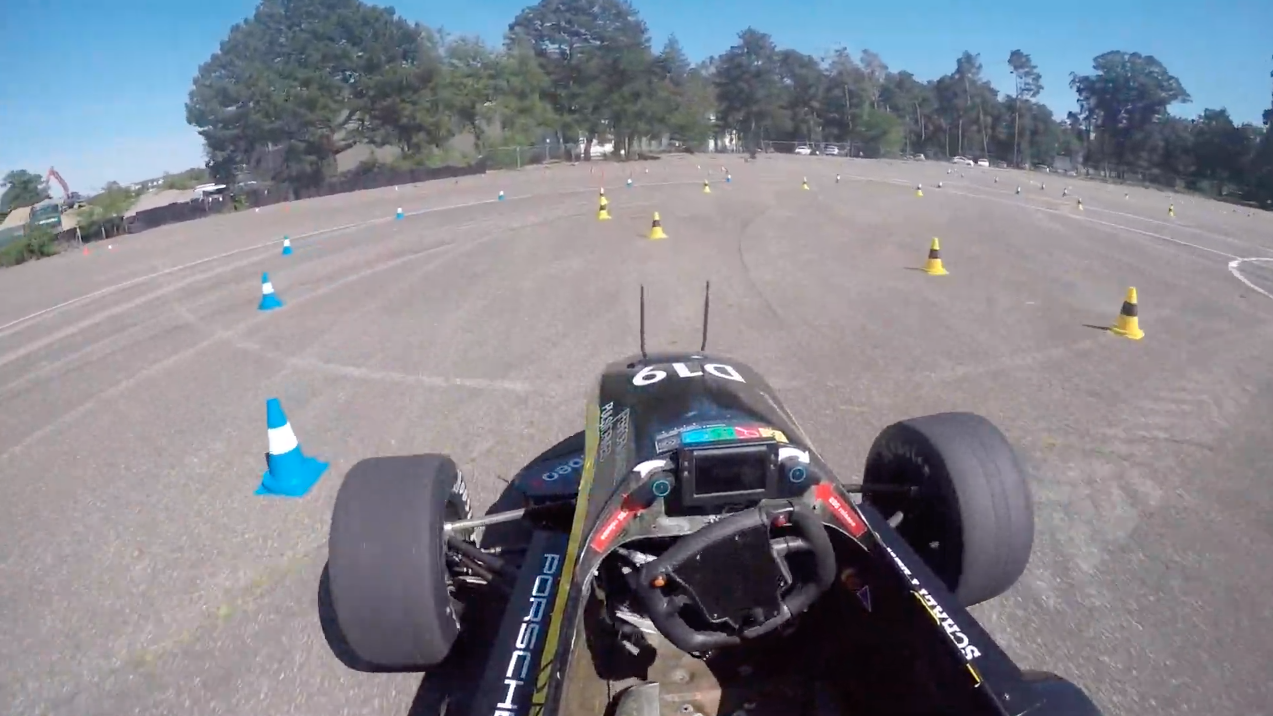lcone: (249, 393, 332, 501), (252, 268, 288, 315), (278, 231, 298, 258)
rcone: (1104, 283, 1155, 342), (918, 232, 952, 277), (645, 208, 671, 242)
